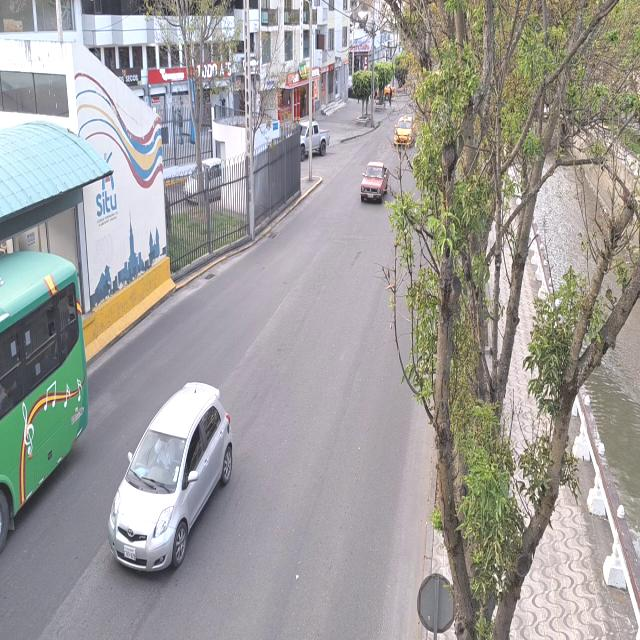BUS: (0, 253, 72, 571)
CMT: (300, 122, 330, 161), (360, 164, 388, 203)
SED: (106, 380, 235, 575), (392, 112, 418, 150)
